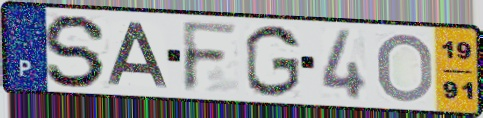4: (318, 28, 369, 102)
A: (104, 20, 172, 90)
F: (179, 19, 241, 95)
G: (242, 22, 302, 99)
O: (375, 31, 435, 105)
S: (40, 12, 112, 90)
